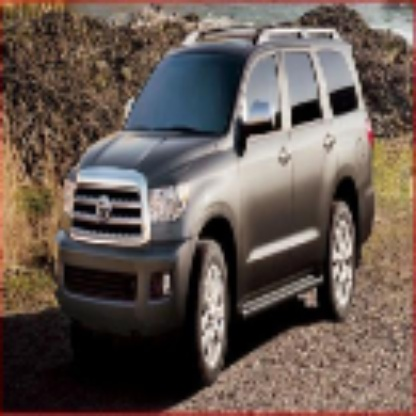Vehicle: (57, 28, 374, 392)
